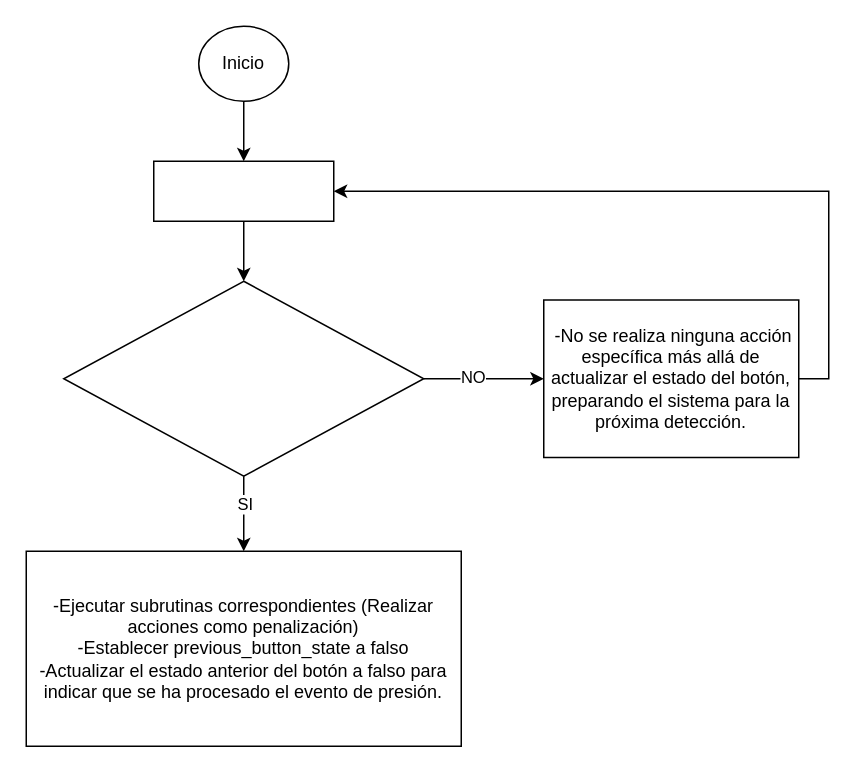
This 867x773 diagram has some shape labels left out. The box of each missing label's shape, as (x1, y1, x2, y2) in pixels:
Leer estado del pulsador: (152, 160, 334, 221)
¿Está el botón presionado y previous_button_state es verdadero?: (62, 280, 424, 476)
